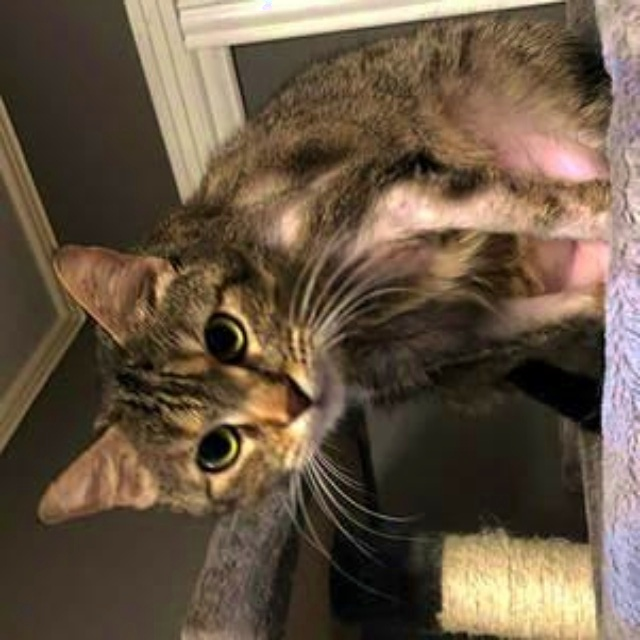hairloss: (378, 193, 549, 235), (466, 124, 603, 170), (493, 284, 602, 340)
